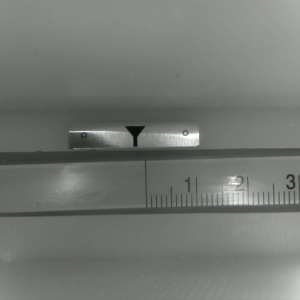1: (183, 177, 190, 192)
2: (231, 177, 242, 191)
3: (286, 173, 296, 189)
finger: (125, 127, 144, 145)
